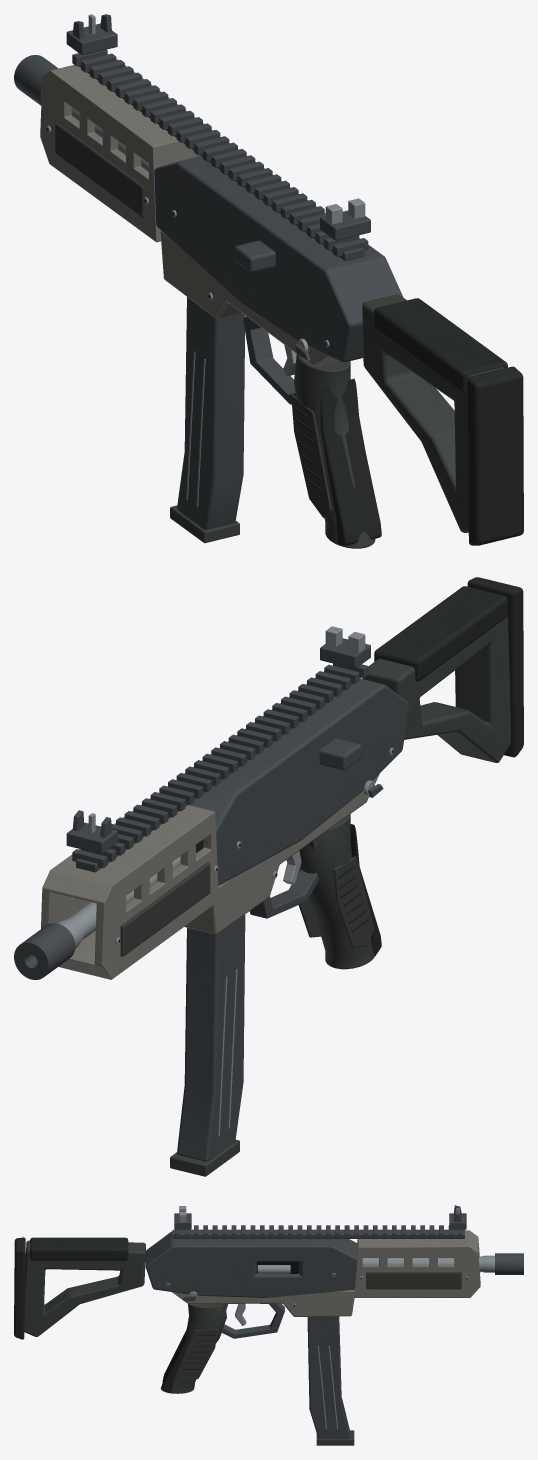
The model's file is smg.glb.
3 views of the same model, one above another, from view 1: azimuth 30°, elevation 25°; view 2: azimuth 150°, elevation 25°; view 3: azimuth 270°, elevation 25° (orthographic). The views are drawn at different scales.
Parts seen in each view (by area): view 1: SMG_Receiver, SMG_Static_Treated graphite, SMG_Static_Warm grey coating, SMG_Magazine, SMG_Stock, SMG_Buttpad, SMG_Static_Dense rubber, SMG_StockCheek, SMG_Static_Grip stipple, SMG_Grip, SMG_Static_Machined steel, SMG_ChargingHandle (+1 smaller); view 2: SMG_Receiver, SMG_Static_Warm grey coating, SMG_Static_Treated graphite, SMG_Magazine, SMG_Stock, SMG_StockCheek, SMG_Static_Grip stipple, SMG_Grip, SMG_Buttpad, SMG_Barrel, SMG_Static_Dense rubber, SMG_Static_Machined steel (+2 smaller); view 3: SMG_Receiver, SMG_Static_Warm grey coating, SMG_Static_Treated graphite, SMG_Stock, SMG_Magazine, SMG_Static_Grip stipple, SMG_StockCheek, SMG_Grip, SMG_Buttpad, SMG_Static_Dense rubber, SMG_Barrel, SMG_Static_Machined steel (+2 smaller).
Boxes of the visible parts, <box> form: SMG_Receiver: <box>154,149,402,362</box>; SMG_Static_Treated graphite: <box>14,14,370,404</box>; SMG_Static_Warm grey coating: <box>40,58,339,366</box>; SMG_Magazine: <box>177,297,245,529</box>; SMG_Stock: <box>362,294,504,532</box>; SMG_Buttpad: <box>467,366,523,545</box>; SMG_Static_Dense rubber: <box>292,378,381,545</box>; SMG_StockCheek: <box>374,298,507,393</box>; SMG_Static_Grip stipple: <box>55,123,364,518</box>; SMG_Grip: <box>294,354,375,548</box>; SMG_Static_Machined steel: <box>46,14,365,351</box>; SMG_ChargingHandle: <box>234,240,275,272</box>; SMG_Receiver: <box>185,671,409,885</box>; SMG_Static_Warm grey coating: <box>41,773,379,979</box>; SMG_Static_Treated graphite: <box>14,638,383,979</box>; SMG_Magazine: <box>177,914,245,1161</box>; SMG_Stock: <box>362,615,510,762</box>; SMG_StockCheek: <box>374,586,507,681</box>; SMG_Static_Grip stipple: <box>120,856,374,956</box>; SMG_Grip: <box>298,814,374,969</box>; SMG_Buttpad: <box>467,577,523,757</box>; SMG_Barrel: <box>57,856,180,948</box>; SMG_Static_Dense rubber: <box>337,824,381,956</box>; SMG_Static_Machined steel: <box>88,626,393,944</box>; SMG_Receiver: <box>145,1231,357,1297</box>; SMG_Static_Warm grey coating: <box>172,1230,480,1316</box>; SMG_Static_Treated graphite: <box>172,1205,523,1338</box>; SMG_Stock: <box>24,1240,145,1336</box>; SMG_Magazine: <box>307,1316,349,1438</box>; SMG_Static_Grip stipple: <box>175,1272,461,1383</box>; SMG_StockCheek: <box>30,1237,128,1260</box>; SMG_Grip: <box>160,1304,226,1393</box>; SMG_Buttpad: <box>14,1237,25,1339</box>; SMG_Static_Dense rubber: <box>162,1313,215,1393</box>; SMG_Barrel: <box>362,1255,494,1272</box>; SMG_Static_Machined steel: <box>166,1206,469,1307</box>.
Bounding box in the file's own units: 0.075 × 0.3265 × 0.649.
Materials: 7 (7 with a texture image).
